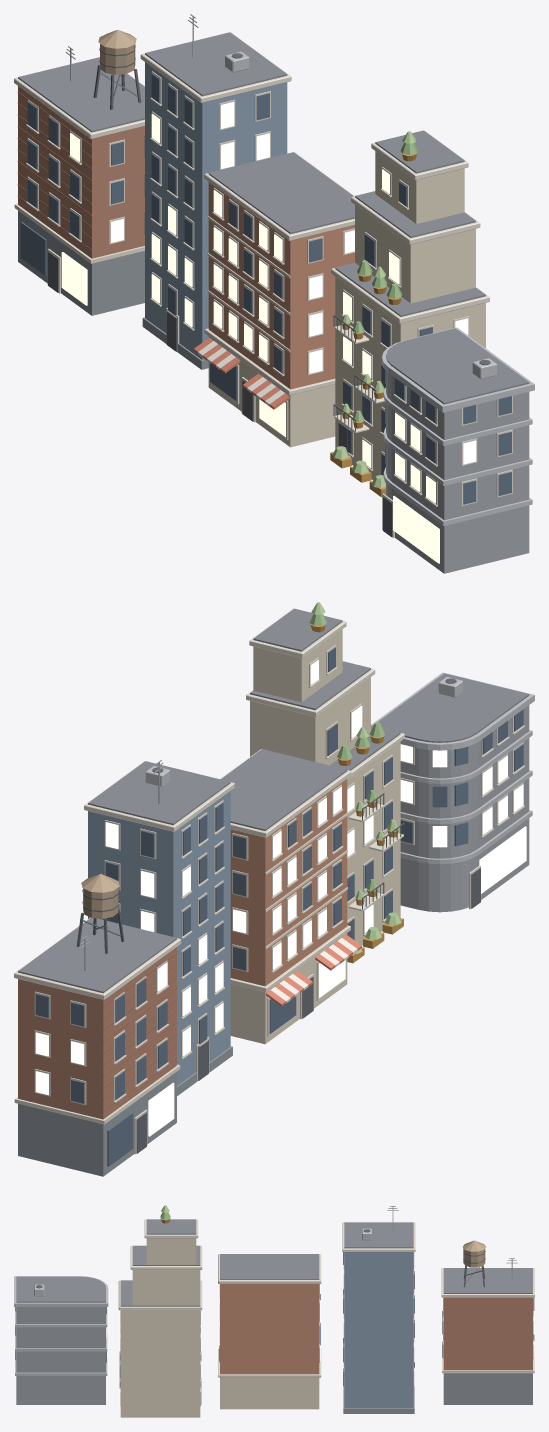
Rendered from edificios.glb.
3 views of the same model, one above another, from view 1: azimuth 30°, elevation 25°; view 2: azimuth 150°, elevation 25°; view 3: azimuth 270°, elevation 25° (orthographic). The views are drawn at different scales.
Visible parts, largest first — view 1: edificio_plantas_fachada_crema, edificio_torre_fachada_azul, edificio_esquina_fachada_gris, edificio_tiendas_fachada_terracota, edificio_ladrillo_fachada_ladrillo, edificio_tiendas_marco_ventana, edificio_tiendas_techo, edificio_esquina_techo, edificio_ladrillo_techo, edificio_plantas_techo, edificio_plantas_marco_ventana, edificio_esquina_franja_gris (+25 smaller); view 2: edificio_torre_fachada_azul, edificio_ladrillo_fachada_ladrillo, edificio_plantas_fachada_crema, edificio_esquina_fachada_gris, edificio_tiendas_fachada_terracota, edificio_tiendas_marco_ventana, edificio_ladrillo_techo, edificio_ladrillo_fachada_pizarra, edificio_tiendas_techo, edificio_esquina_techo, edificio_torre_techo, edificio_ladrillo_marco_ventana (+24 smaller); view 3: edificio_plantas_fachada_crema, edificio_torre_fachada_azul, edificio_tiendas_fachada_terracota, edificio_esquina_fachada_gris, edificio_ladrillo_fachada_ladrillo, edificio_tiendas_fachada_crema, edificio_ladrillo_fachada_pizarra, edificio_tiendas_techo, edificio_ladrillo_techo, edificio_esquina_techo, edificio_esquina_franja_gris, edificio_torre_techo (+7 smaller).
Boxes of the visible parts, left/top/right/bottom form: edificio_plantas_fachada_crema: left=335, top=151, right=485, bottom=480; edificio_torre_fachada_azul: left=145, top=62, right=287, bottom=359; edificio_esquina_fachada_gris: left=386, top=372, right=529, bottom=573; edificio_tiendas_fachada_terracota: left=208, top=182, right=354, bottom=389; edificio_ladrillo_fachada_ladrillo: left=18, top=86, right=144, bottom=258; edificio_tiendas_marco_ventana: left=204, top=152, right=354, bottom=440; edificio_tiendas_techo: left=208, top=152, right=354, bottom=234; edificio_esquina_techo: left=386, top=328, right=529, bottom=404; edificio_ladrillo_techo: left=18, top=57, right=144, bottom=132; edificio_plantas_techo: left=335, top=130, right=485, bottom=316; edificio_plantas_marco_ventana: left=331, top=130, right=489, bottom=471; edificio_esquina_franja_gris: left=382, top=327, right=534, bottom=525; edificio_torre_fachada_azul: left=88, top=791, right=230, bottom=1085; edificio_ladrillo_fachada_ladrillo: left=18, top=947, right=176, bottom=1119; edificio_plantas_fachada_crema: left=250, top=629, right=400, bottom=945; edificio_esquina_fachada_gris: left=400, top=705, right=529, bottom=912; edificio_tiendas_fachada_terracota: left=230, top=779, right=347, bottom=986; edificio_tiendas_marco_ventana: left=220, top=749, right=351, bottom=1036; edificio_ladrillo_techo: left=18, top=918, right=176, bottom=993; edificio_ladrillo_fachada_pizarra: left=18, top=1071, right=176, bottom=1176; edificio_tiendas_techo: left=221, top=749, right=347, bottom=830; edificio_esquina_techo: left=373, top=673, right=529, bottom=742; edificio_torre_techo: left=88, top=761, right=230, bottom=824; edificio_ladrillo_marco_ventana: left=14, top=917, right=181, bottom=1154; edificio_plantas_fachada_crema: left=120, top=1238, right=200, bottom=1417; edificio_torre_fachada_azul: left=344, top=1252, right=413, bottom=1407; edificio_tiendas_fachada_terracota: left=220, top=1284, right=319, bottom=1374; edificio_esquina_fachada_gris: left=16, top=1307, right=105, bottom=1404; edificio_ladrillo_fachada_ladrillo: left=443, top=1297, right=532, bottom=1370; edificio_tiendas_fachada_crema: left=220, top=1377, right=319, bottom=1409; edificio_ladrillo_fachada_pizarra: left=443, top=1373, right=532, bottom=1404; edificio_tiendas_techo: left=220, top=1254, right=319, bottom=1279; edificio_ladrillo_techo: left=443, top=1268, right=532, bottom=1293; edificio_esquina_techo: left=16, top=1276, right=105, bottom=1302; edificio_esquina_franja_gris: left=14, top=1276, right=108, bottom=1375; edificio_torre_techo: left=344, top=1222, right=413, bottom=1248.
Size of the model in its own units: 9.45 by 22.25 by 52.45.
